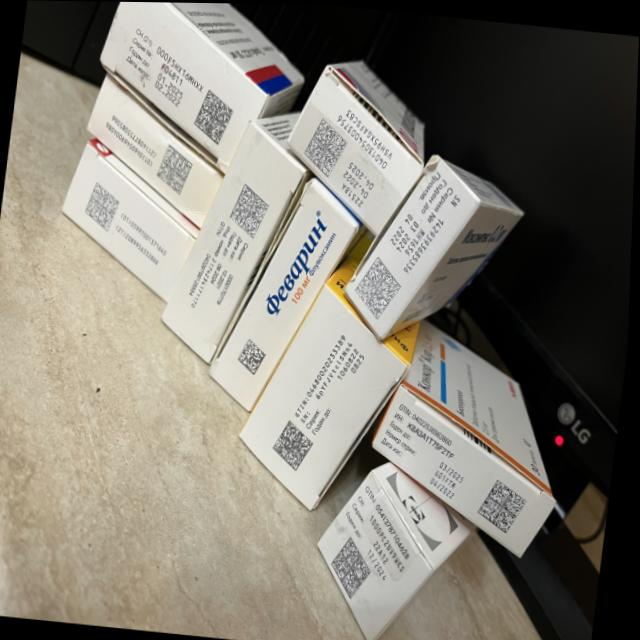datamatrix: (354, 255, 407, 321), (332, 534, 380, 601), (479, 476, 534, 534), (303, 115, 352, 179), (193, 88, 238, 147), (229, 182, 274, 240), (274, 419, 319, 472), (156, 143, 196, 196), (85, 181, 124, 234), (239, 338, 271, 376)
